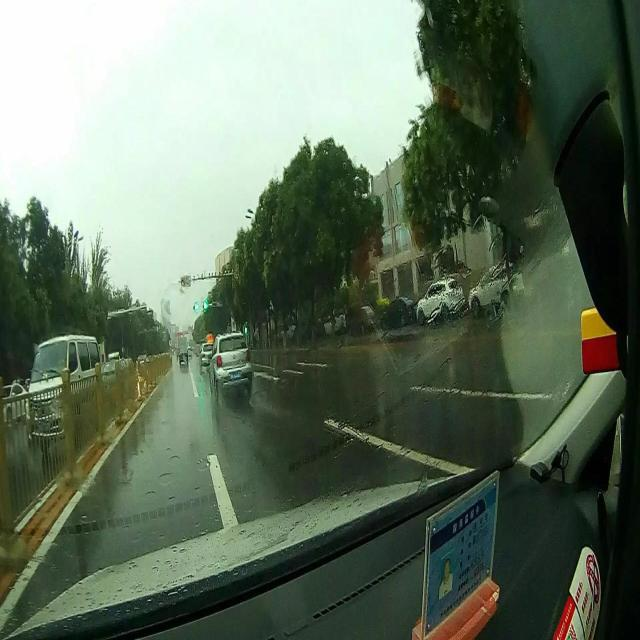car: (26, 334, 105, 434), (207, 334, 253, 394), (414, 274, 464, 324), (198, 340, 218, 368), (176, 342, 190, 366)
